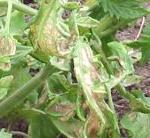Tomato leaf mosaic virus: (69, 44, 105, 121)
